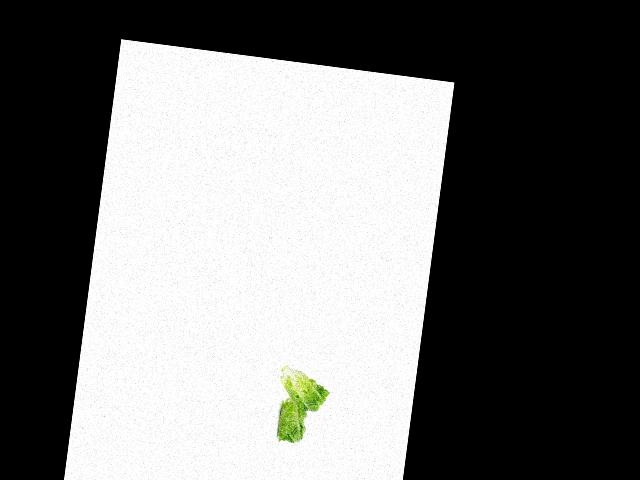lettuce: (272, 363, 330, 418)
